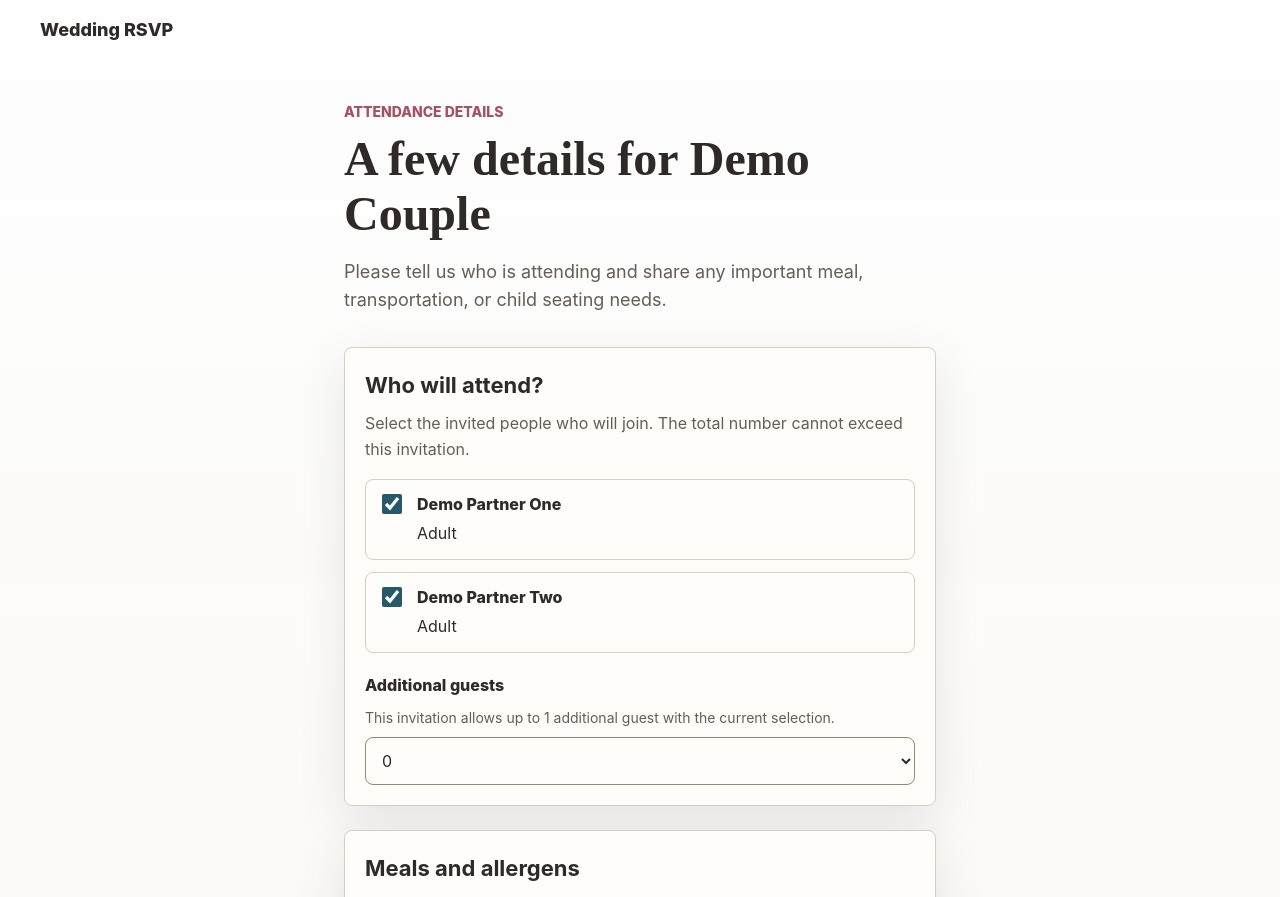
Scenario: guest routing and RSVP flows › shows conditional questionnaire fields
Expected: the heading "A few details for Demo Couple" is shown, [344,132,810,240]
Select "1" in the dropdown labelled "Additional guests" at (640, 761), box [365,737,915,785]
(page scrolled)
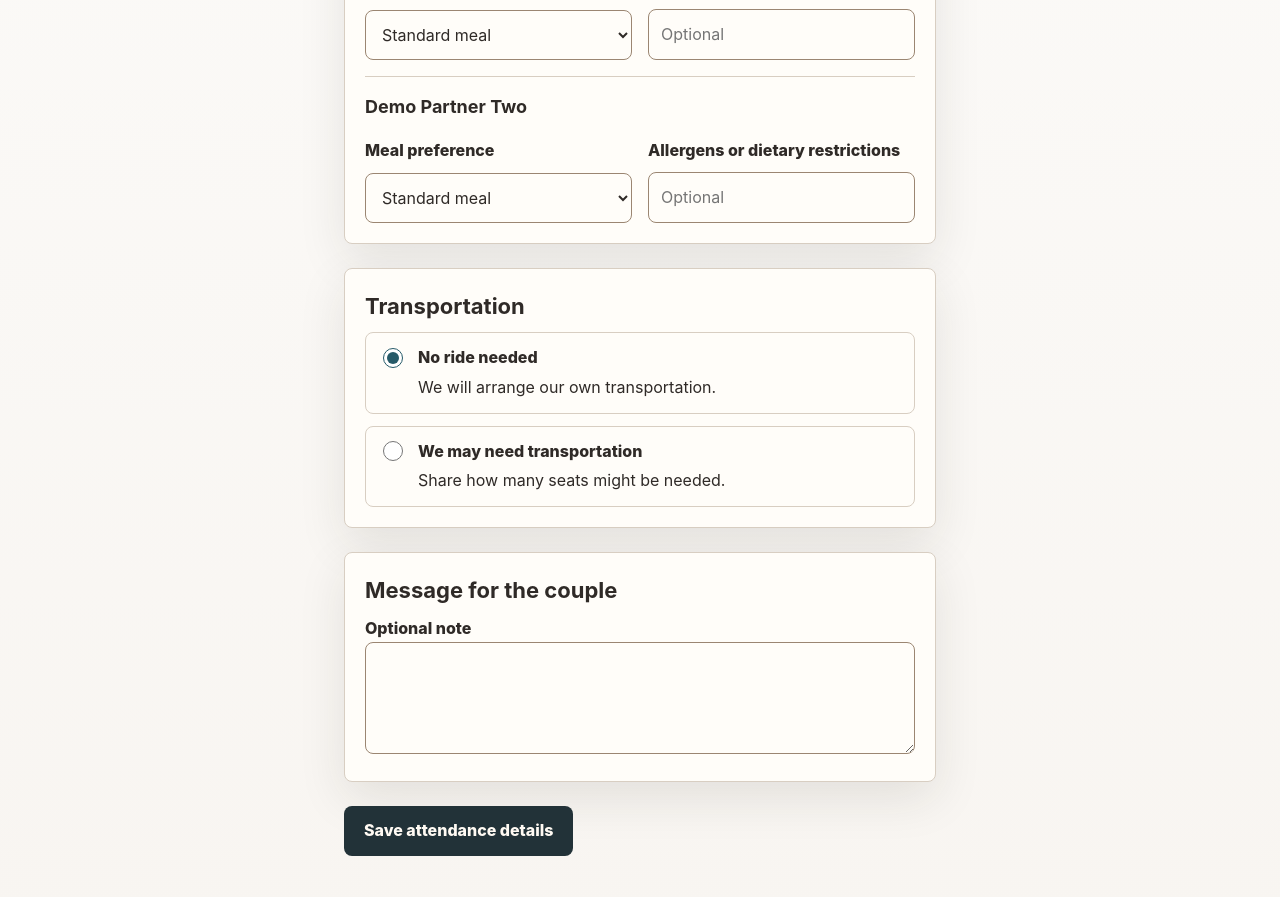
Click the radio button labelled "We may need transportation".
click(393, 451)  # box [383,441,403,461]
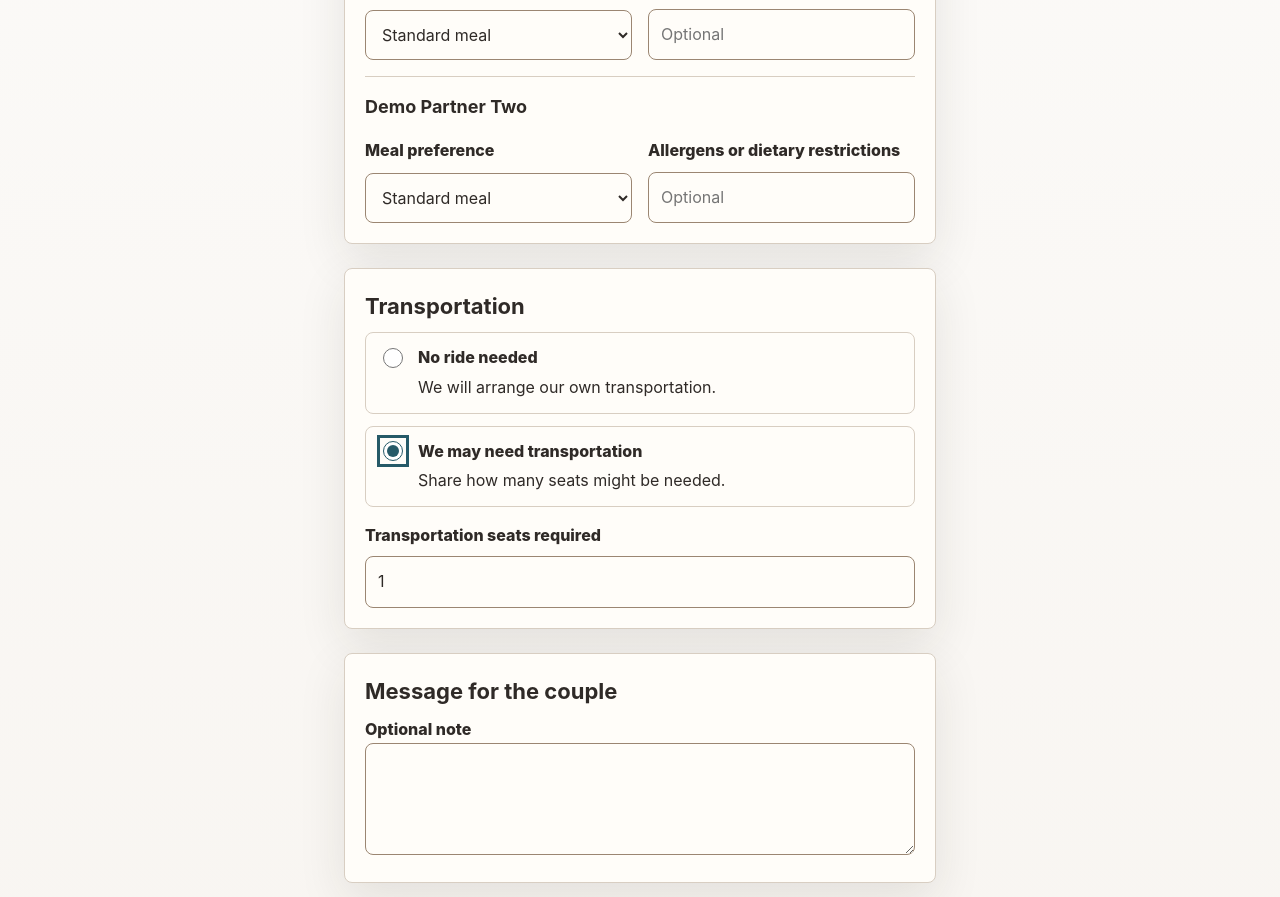
Now the number field labelled "Transportation seats required" is shown, box [365,556,915,608]
